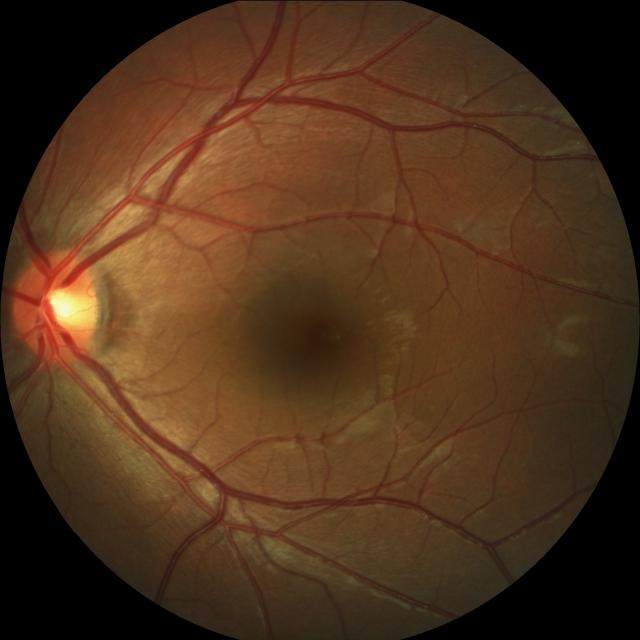OC: (39, 286, 83, 330)
OD: (14, 248, 100, 364)
